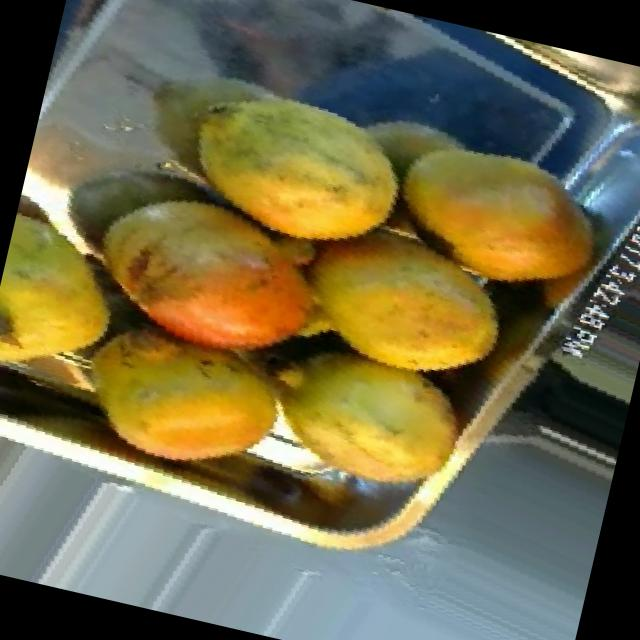fruit: (46, 145, 349, 385), (270, 185, 538, 412), (54, 292, 322, 502), (371, 110, 634, 320), (244, 322, 498, 524), (0, 176, 163, 389)
